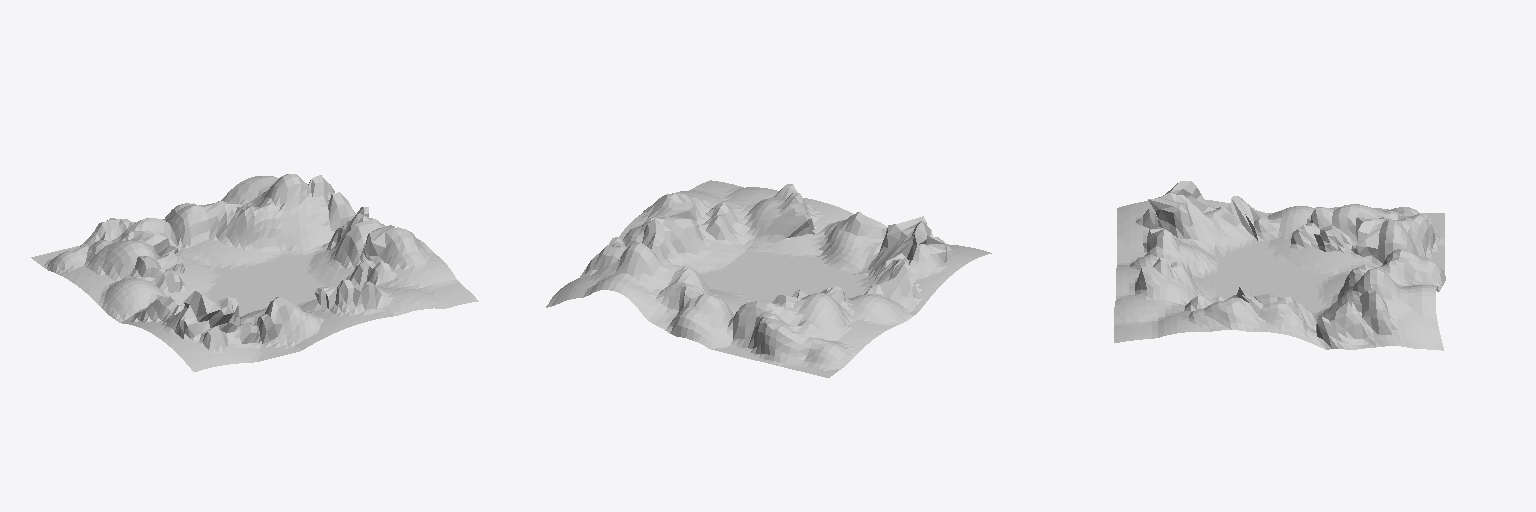
Rendered from mountain.obj.
3 renders of one model, left to right at view 1: azimuth 30°, elevation 25°; view 2: azimuth 150°, elevation 25°; view 3: azimuth 270°, elevation 25°, orthographic.
Visible parts, largest first — view 1: pPlane1; view 2: pPlane1; view 3: pPlane1.
Boxes of the visible parts, x1=… form: pPlane1: x1=31, y1=174, x2=478, y2=371; pPlane1: x1=546, y1=180, x2=991, y2=377; pPlane1: x1=1114, y1=181, x2=1445, y2=350.
Bounding box in the file's own units: 73.8 × 13.23 × 73.6.